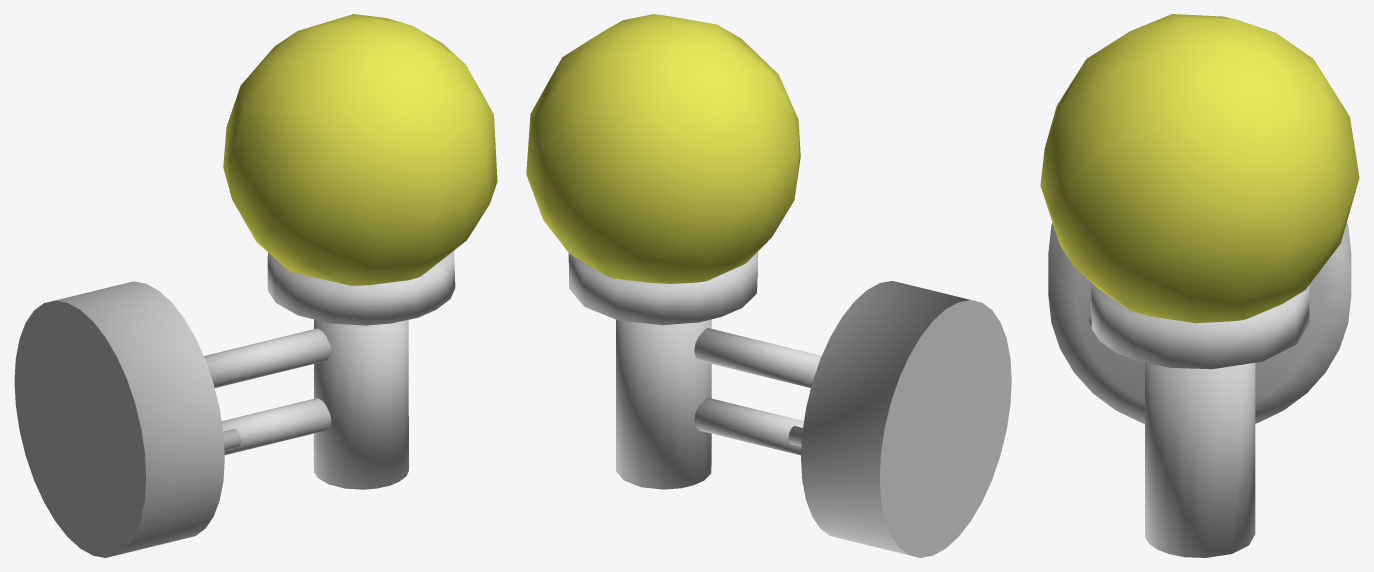
The model's file is uploads_files_2018989_wall_lamp.fbx.
3 views of the same model, side by side, from view 1: azimuth 30°, elevation 25°; view 2: azimuth 150°, elevation 25°; view 3: azimuth 270°, elevation 25° (orthographic). The views are drawn at different scales.
Parts seen in each view (by area): view 1: Cylinder.006, Sphere; view 2: Cylinder.006, Sphere; view 3: Sphere, Cylinder.006.
Boxes of the visible parts, left/top/right/bottom form: Cylinder.006: left=14, top=251, right=455, bottom=557; Sphere: left=223, top=14, right=497, bottom=285; Cylinder.006: left=568, top=252, right=1011, bottom=557; Sphere: left=526, top=14, right=800, bottom=283; Sphere: left=1040, top=14, right=1359, bottom=323; Cylinder.006: left=1048, top=222, right=1351, bottom=557.
Size of the model in its own units: 336 by 362 by 202.
